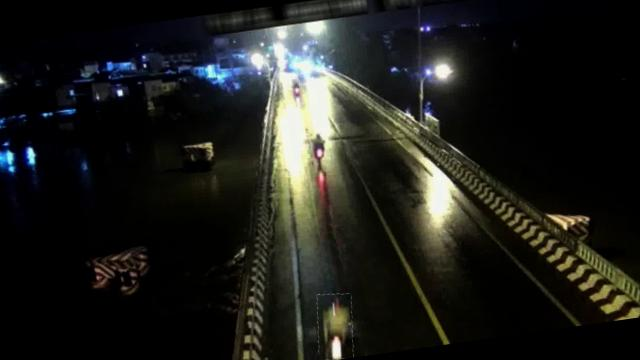Bike: (311, 290, 358, 360), (308, 130, 330, 164)
